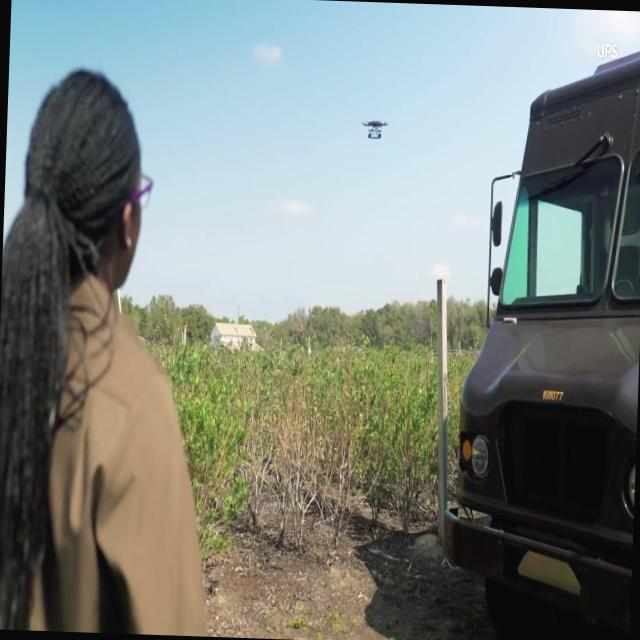drone: (359, 116, 388, 142)
